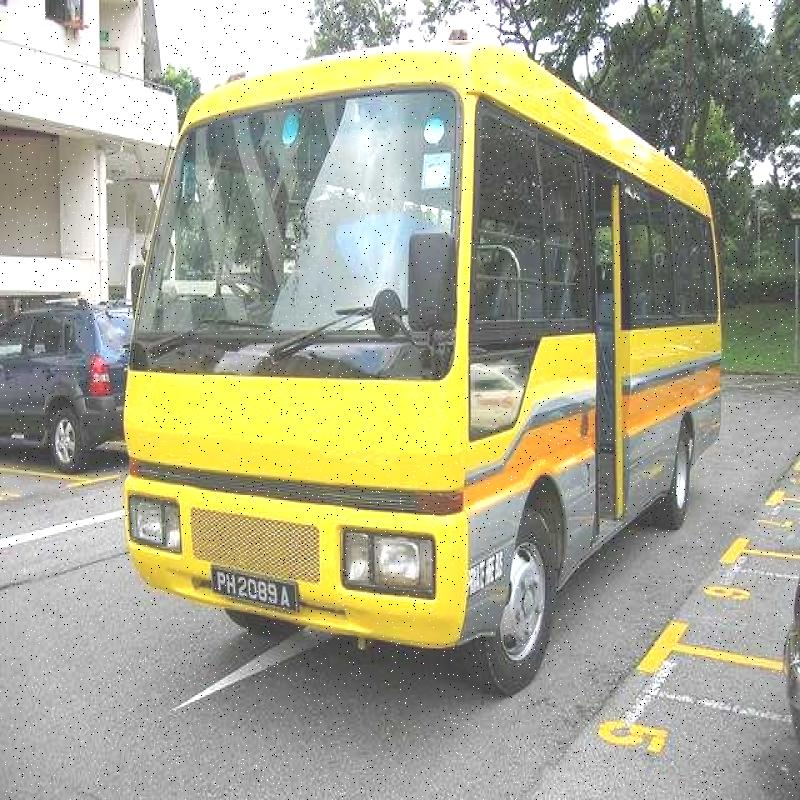bus: (122, 52, 722, 683)
